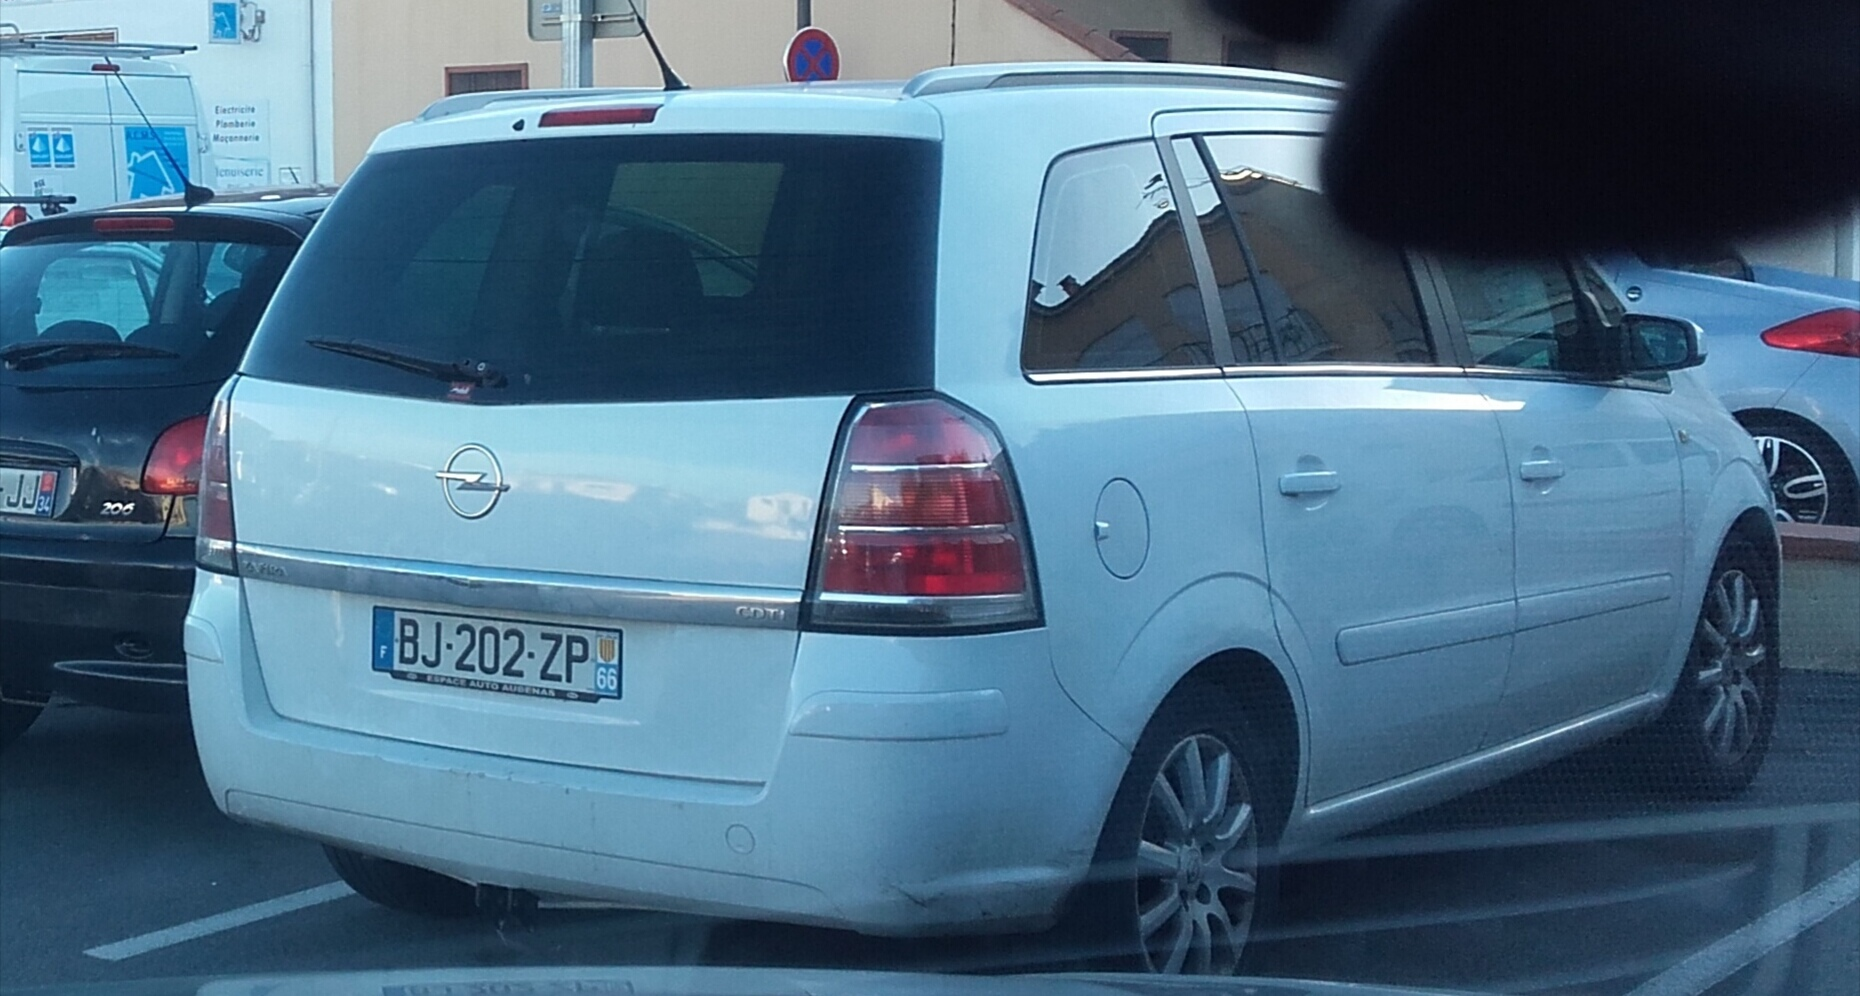licence plate: (367, 599, 631, 707)
